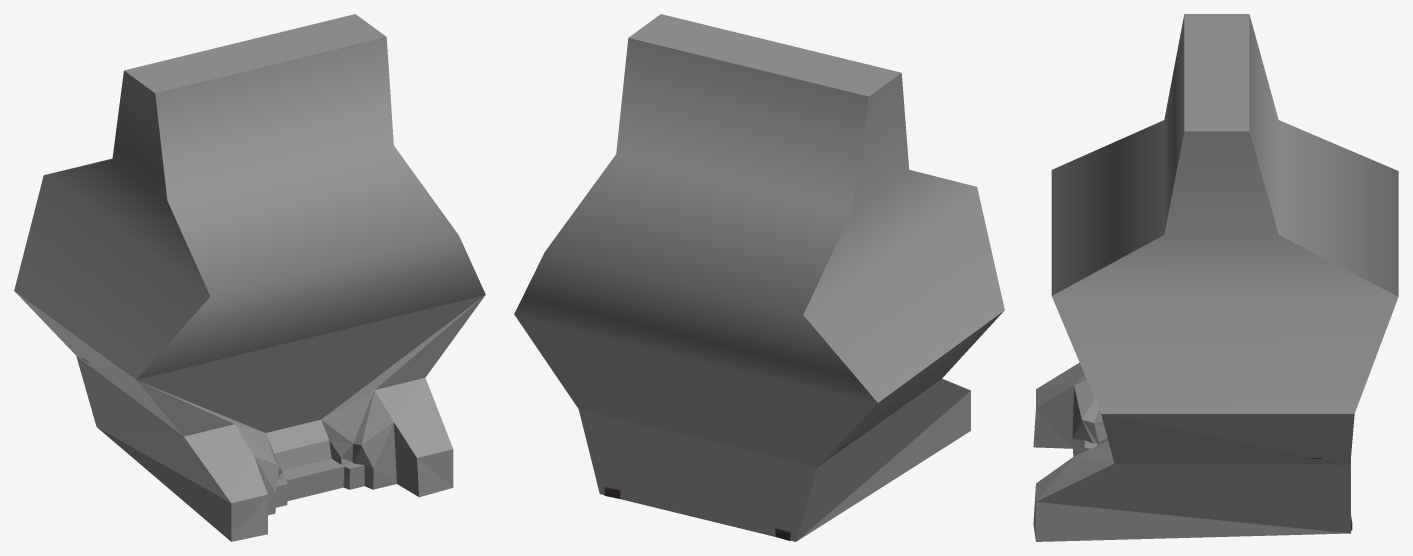
Rendered from fb_jjc_jz_01.FBX.
3 views of the same model, side by side, from view 1: azimuth 30°, elevation 25°; view 2: azimuth 150°, elevation 25°; view 3: azimuth 270°, elevation 25° (orthographic). The views are drawn at different scales.
Parts seen in each view (by area): view 1: col_fb_jjc_jz_01; view 2: col_fb_jjc_jz_01; view 3: col_fb_jjc_jz_01.
Part boxes in pixels (x1,y1,x2,y2): col_fb_jjc_jz_01: (14, 14, 485, 541); col_fb_jjc_jz_01: (514, 14, 1004, 541); col_fb_jjc_jz_01: (1033, 14, 1398, 541).
Size of the model in its own units: 1693 by 1838 by 1473.
